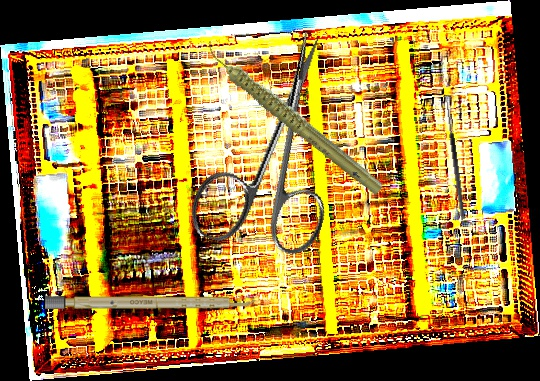Handpiece: (202, 8, 386, 225)
Hook Surgical: (438, 98, 466, 221)
Iris Scissors: (185, 14, 372, 268)
Scalpel Handle: (45, 296, 255, 309)
